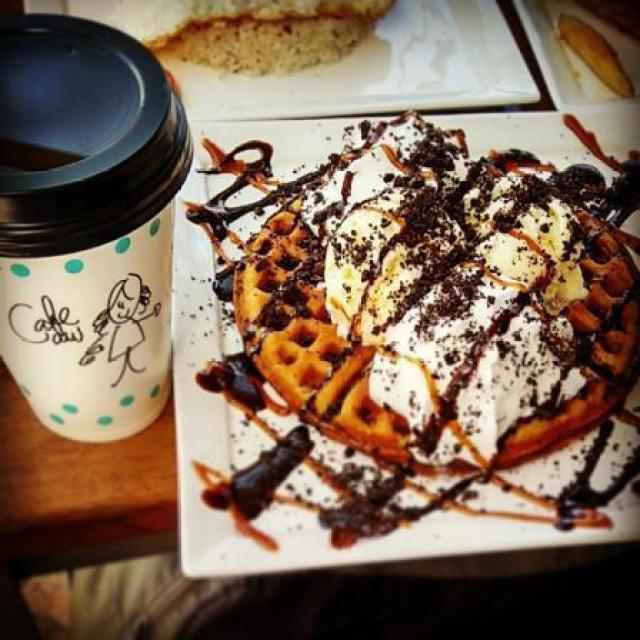Waffle: (226, 156, 640, 478)
